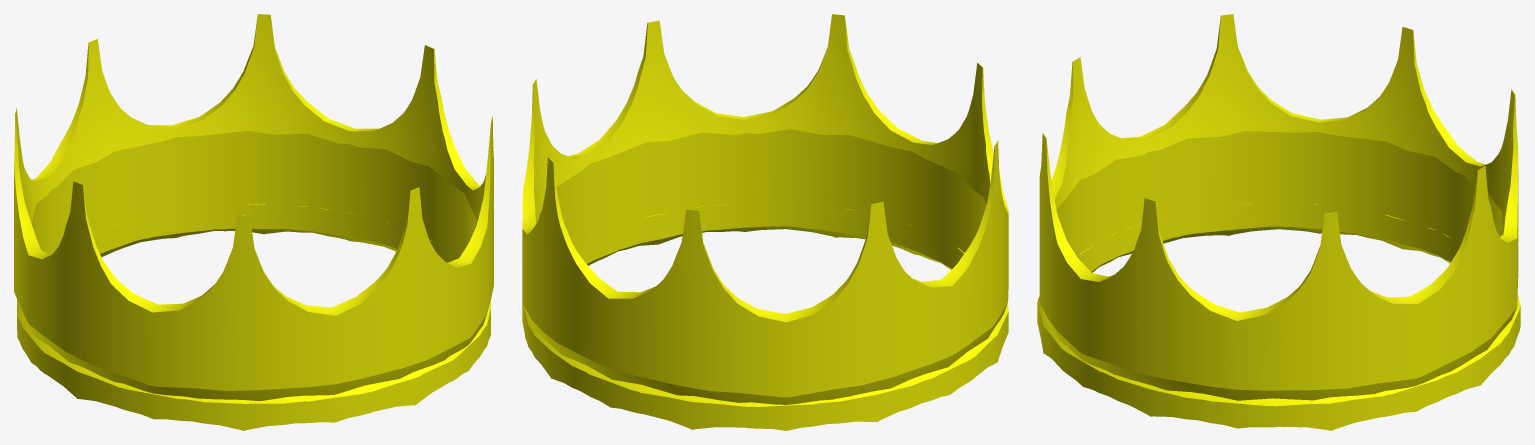
File: Crown.gltf
3 renders of one model, left to right at view 1: azimuth 30°, elevation 25°; view 2: azimuth 150°, elevation 25°; view 3: azimuth 270°, elevation 25°, orthographic.
Visible parts, largest first — view 1: Crown; view 2: Crown; view 3: Crown.
Part boxes in pixels (x1,y1,x2,y2): Crown: [14, 14, 493, 430]; Crown: [522, 14, 1008, 430]; Crown: [1037, 14, 1520, 430].
Size of the model in its own units: 1.01 by 0.5 by 1.01.
